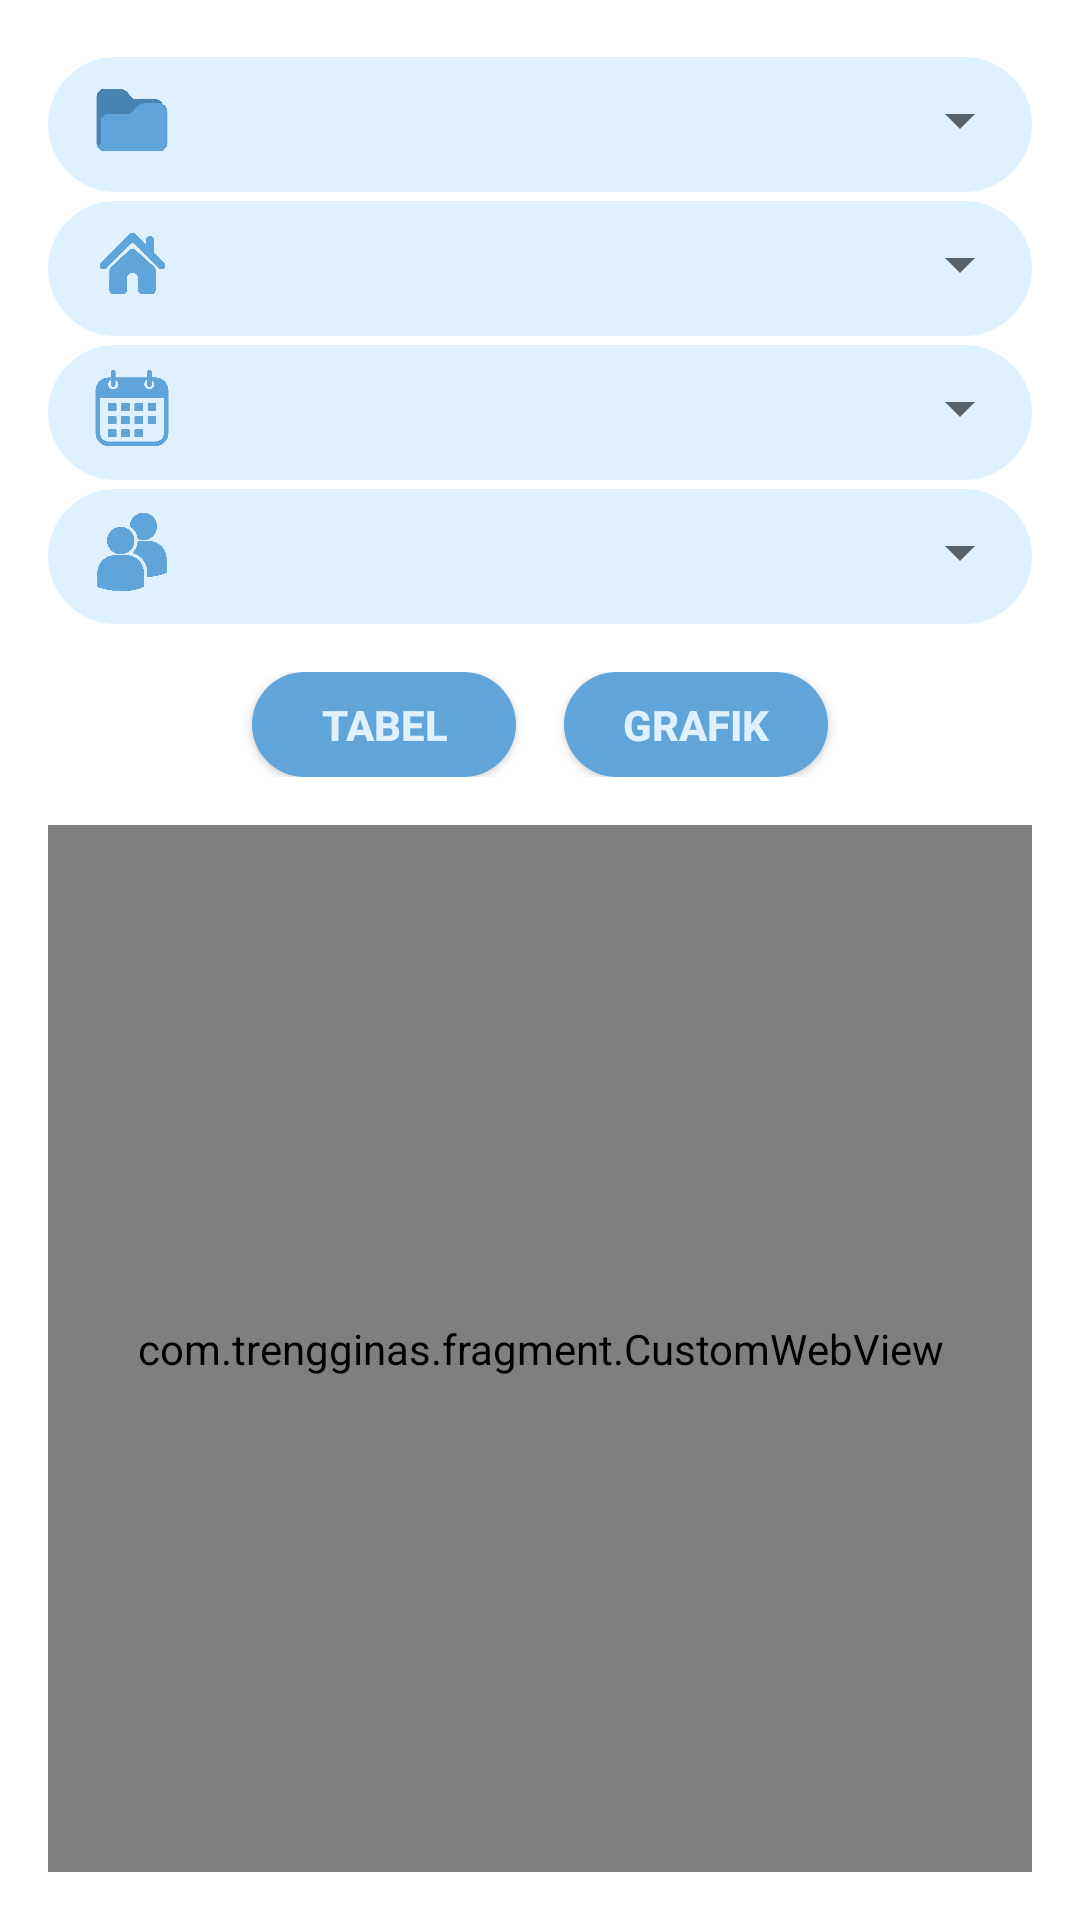

Icon click points for this 1080px x 1920px phone screenshot, format (x,y):
date: (132,408)
